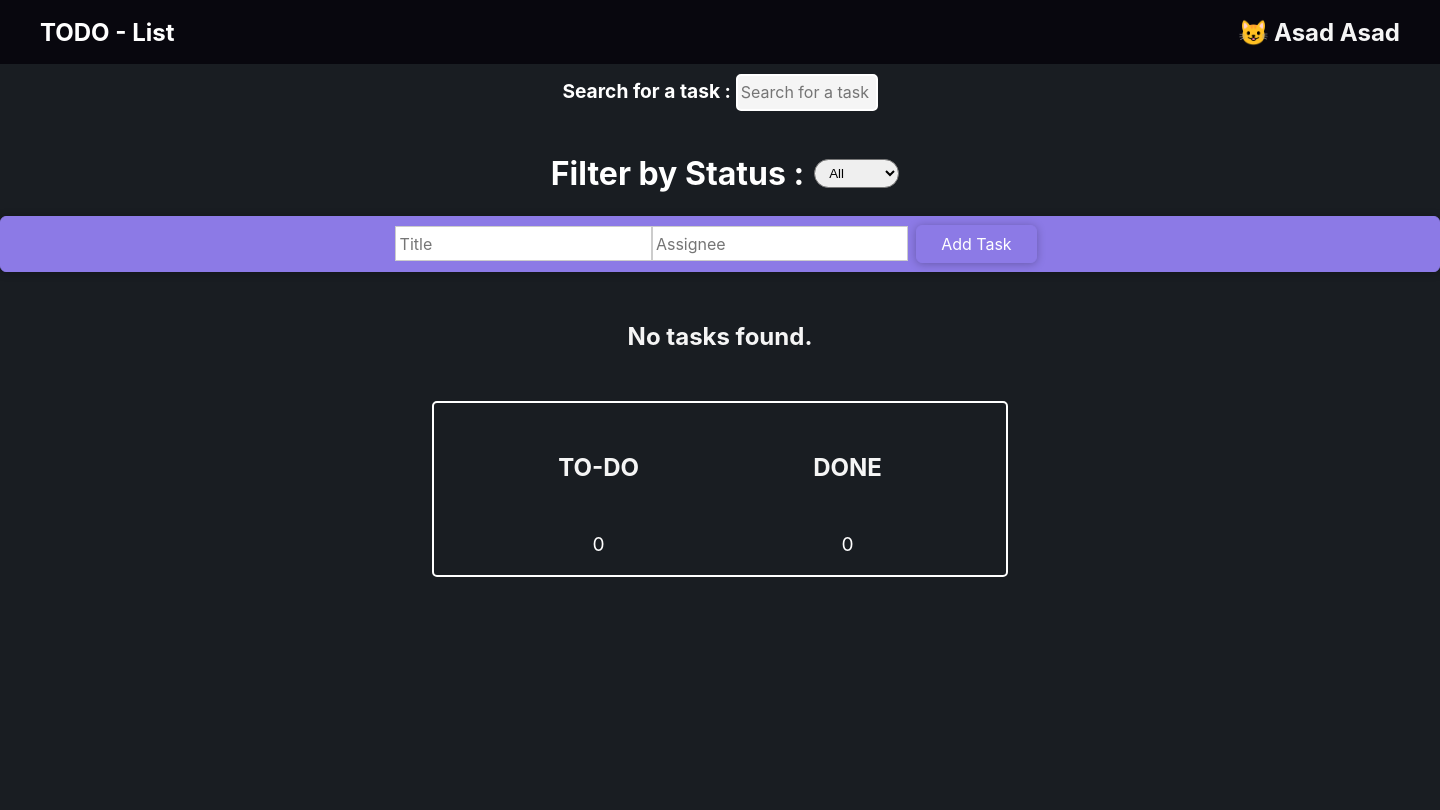
Scenario: Test Input Task Details and Display Task
In the field with placeholder "Title": [524, 244] box [395, 226, 652, 261], type "Test Task"
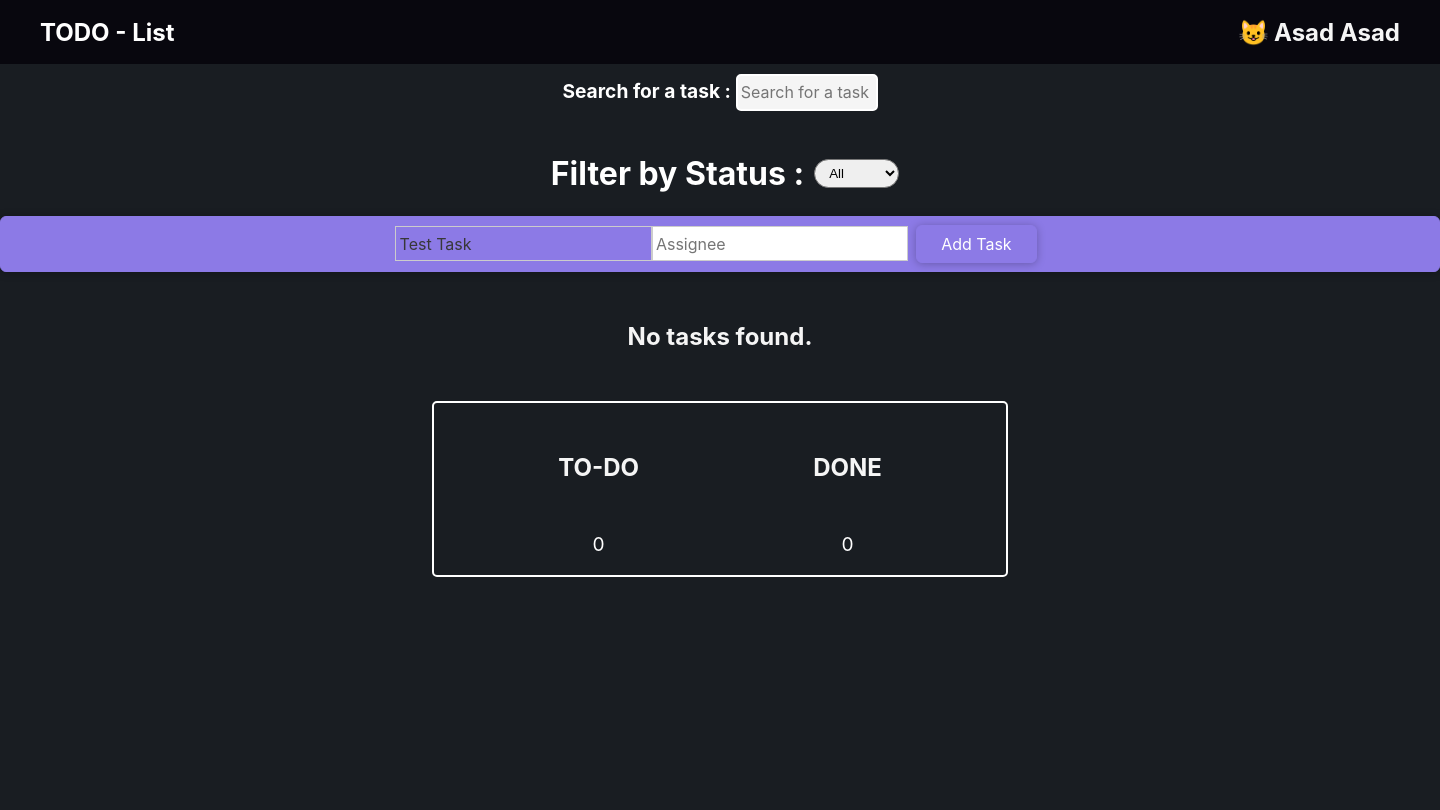
In the field with placeholder "Assignee": [780, 244] box [652, 226, 908, 261], type "Test Assignee"
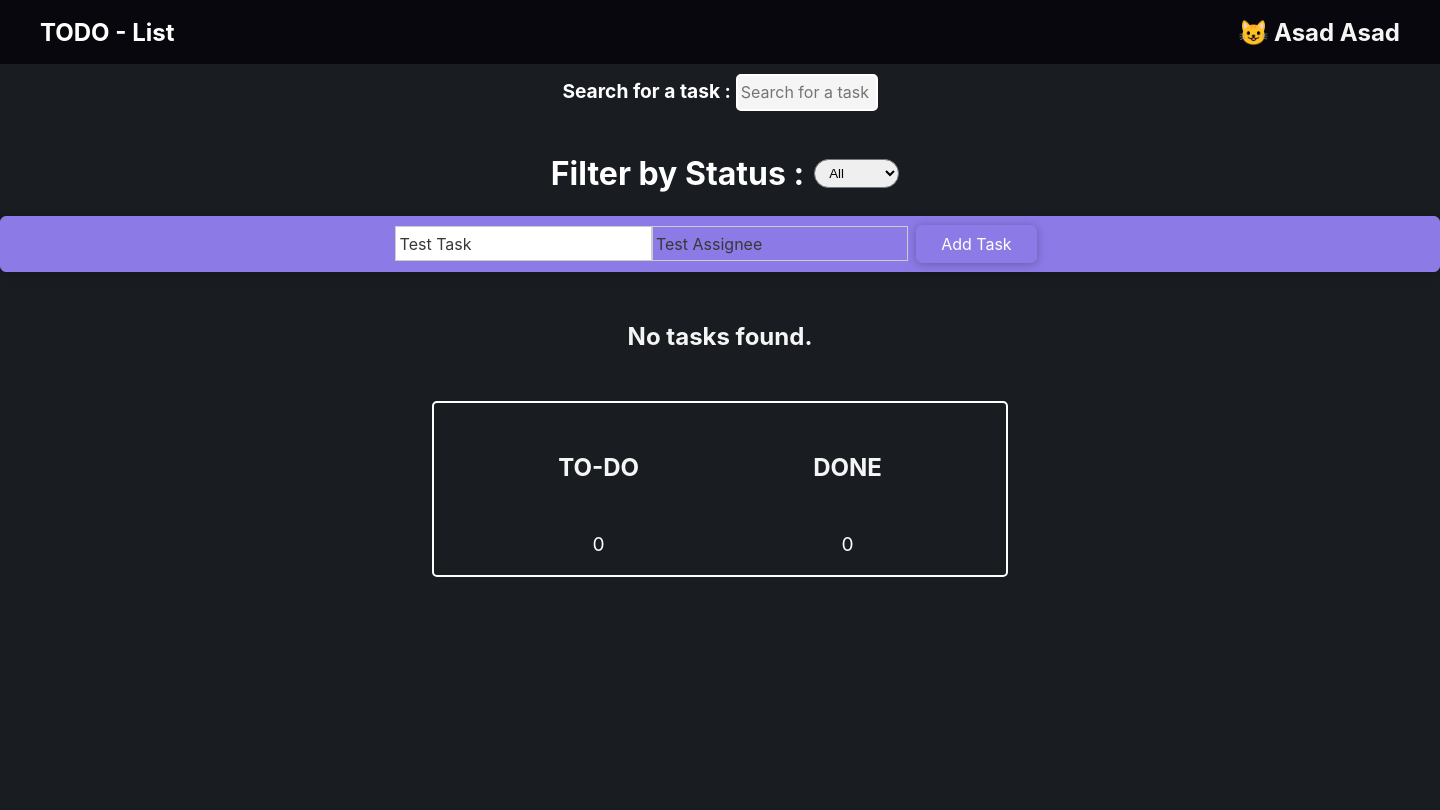
Click the button "Add Task": [976, 244] box [916, 225, 1037, 263]
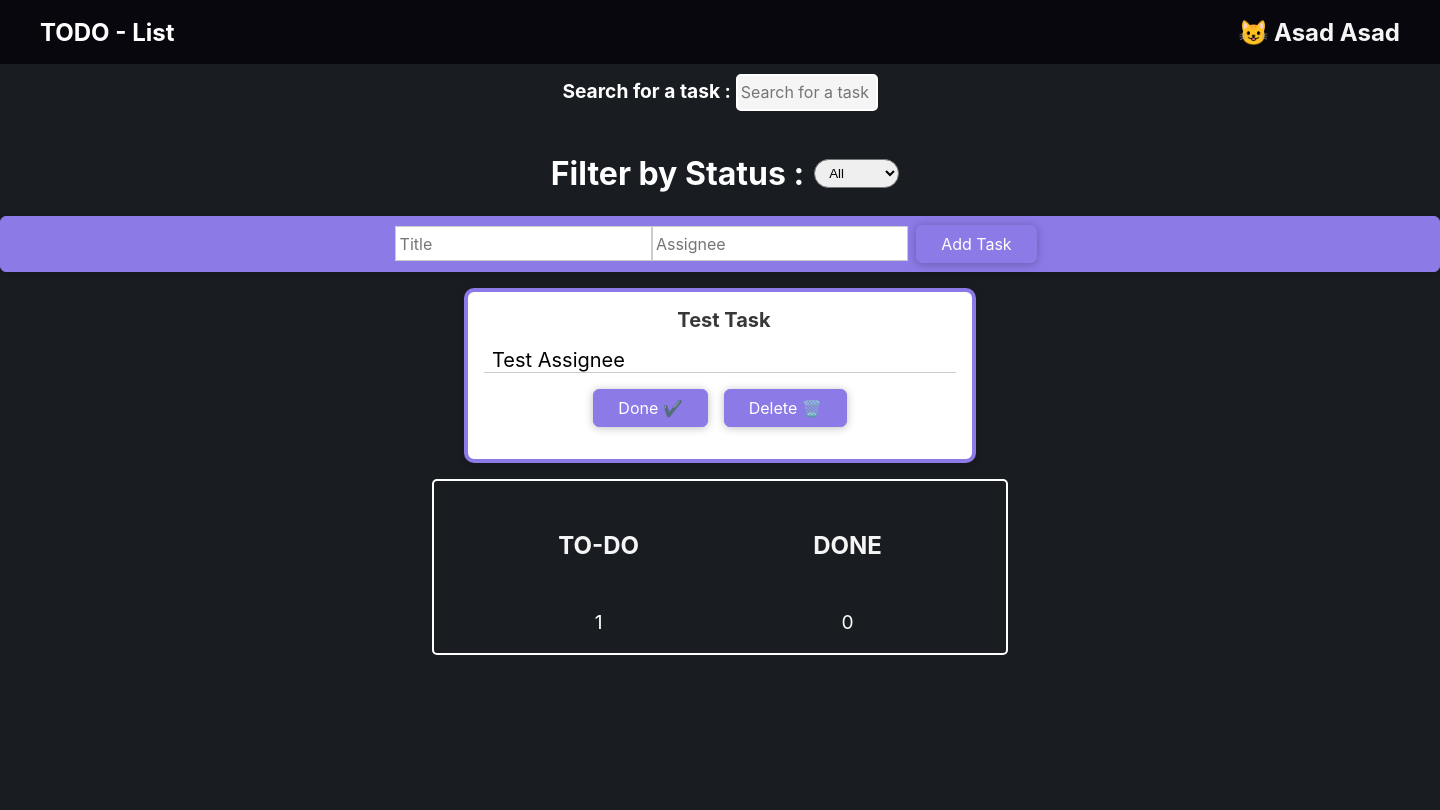
expect the heading "Test Task" is shown: met, box [677, 308, 771, 332]
